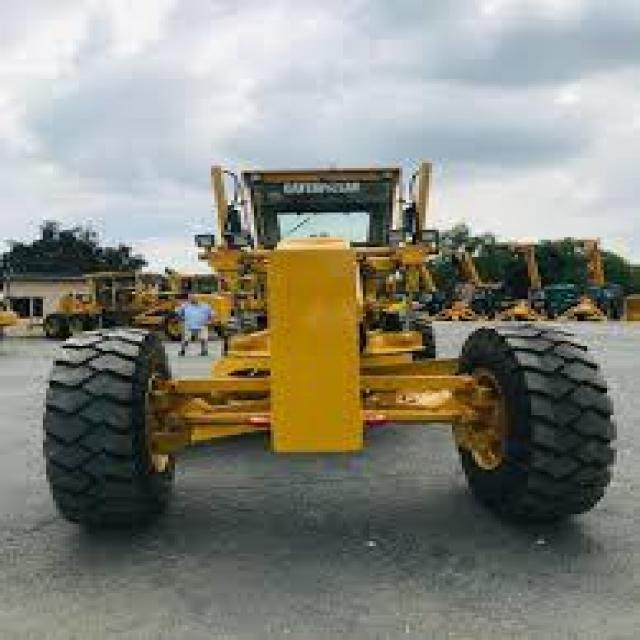Grader: (19, 128, 614, 532)
